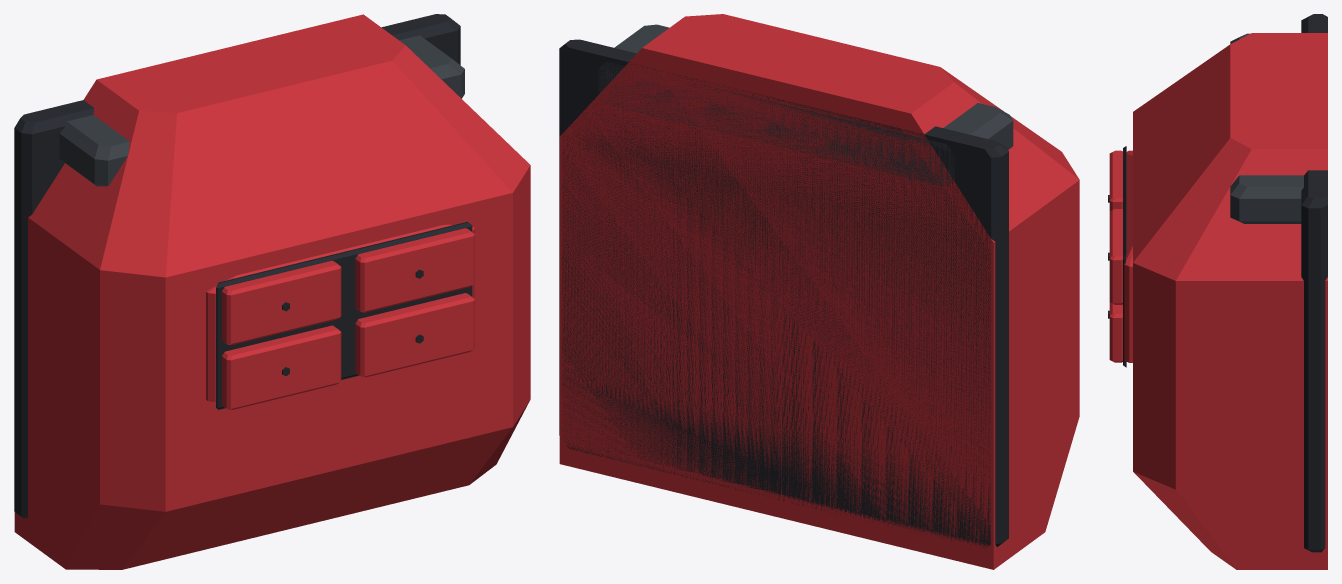
The model's file is FootFront_Set02_Bastion.fbx.
3 renders of one model, left to right at view 1: azimuth 30°, elevation 25°; view 2: azimuth 150°, elevation 25°; view 3: azimuth 270°, elevation 25°, orthographic. The views are drawn at different scales.
Parts seen in each view (by area): view 1: FootFront_Set02_Bastion; view 2: FootFront_Set02_Bastion; view 3: FootFront_Set02_Bastion.
Part boxes in pixels (left/top/right/bottom): FootFront_Set02_Bastion: left=14, top=14, right=530, bottom=569; FootFront_Set02_Bastion: left=559, top=14, right=1079, bottom=569; FootFront_Set02_Bastion: left=1108, top=14, right=1327, bottom=569.
Size of the model in its own units: 0.51 by 0.48 by 0.248.
